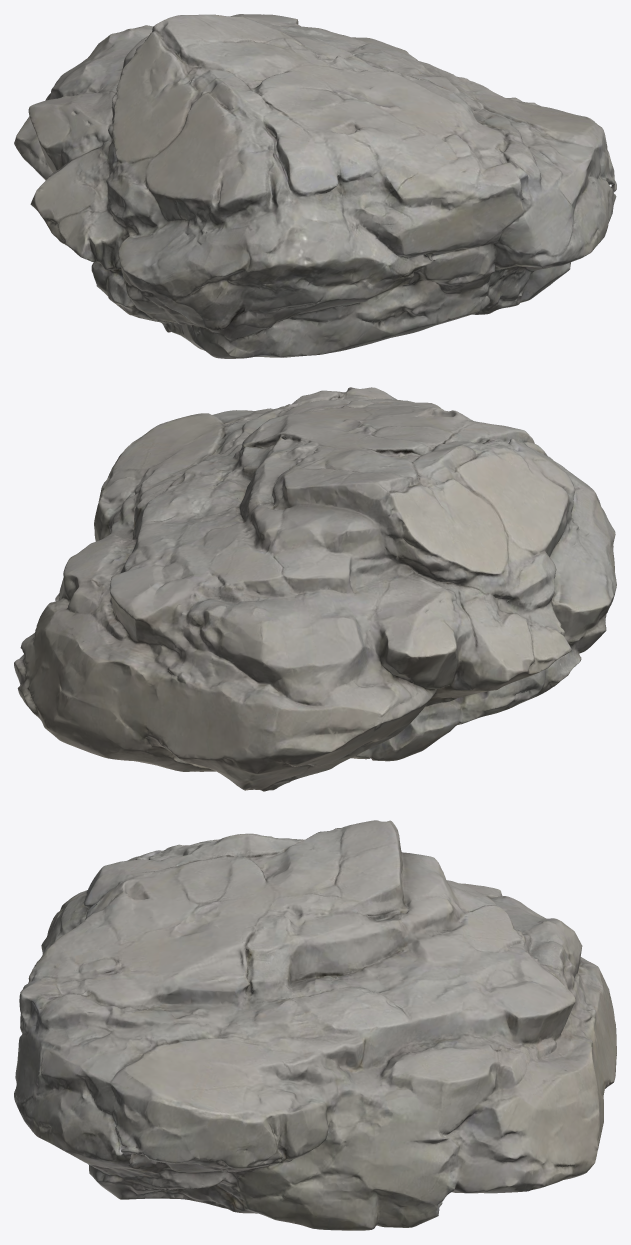
File: Meshy_AI_Rock_Formation_0224030105_texture.glb
The picture shows the model from 3 angles, top to bottom: view 1: azimuth 30°, elevation 25°; view 2: azimuth 150°, elevation 25°; view 3: azimuth 270°, elevation 25°; orthographic projection. The views are drawn at different scales.
Bounding box in the file's own units: 1.91 × 1.08 × 1.99.
1 material, 1 textured.
